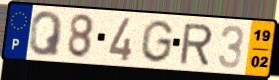3: (217, 24, 245, 70)
4: (106, 16, 134, 63)
8: (66, 12, 96, 60)
G: (138, 19, 176, 65)
Q: (27, 10, 65, 58)
R: (178, 23, 215, 66)
